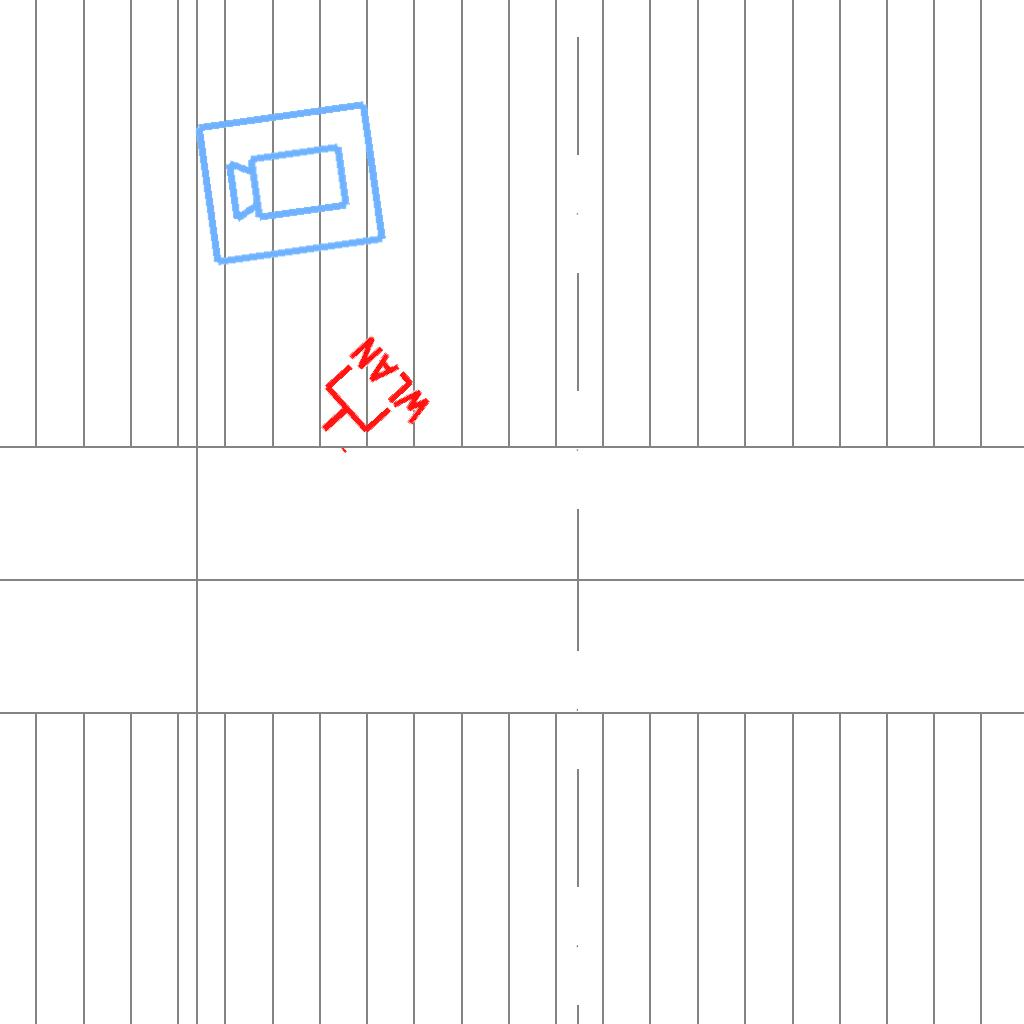KFO_Kamera_mit_Festobjektiv: (190, 93, 392, 271)
WLAN: (291, 330, 440, 478)
